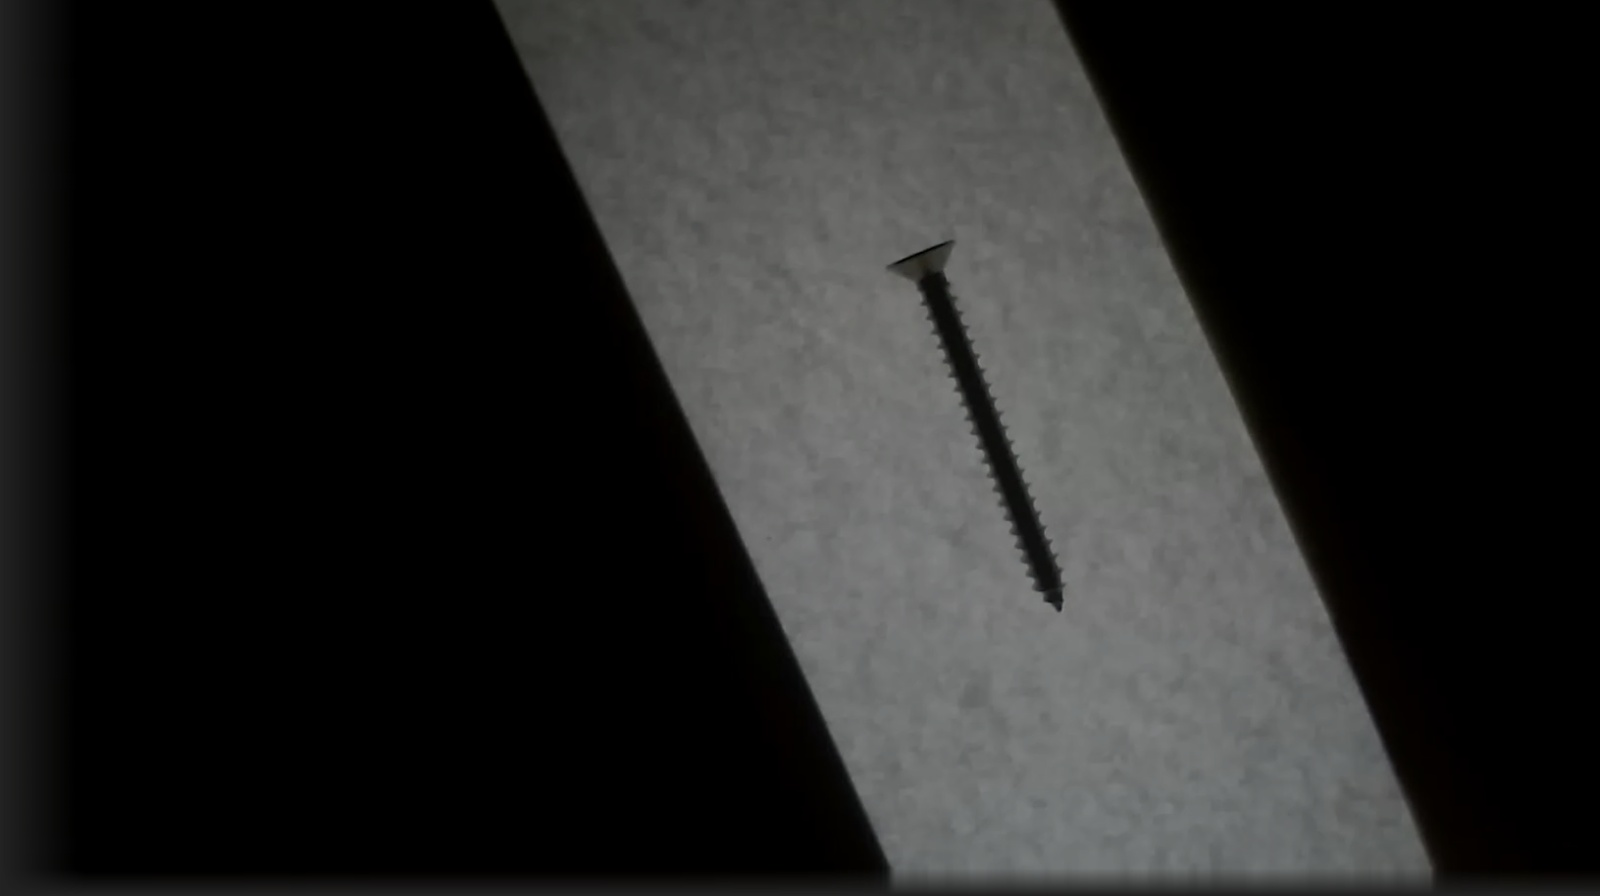S002: (878, 232, 1085, 617)
